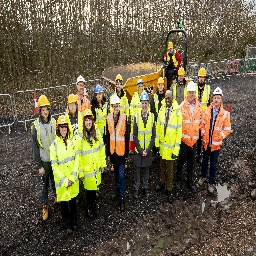helmet: (37, 95, 51, 109), (66, 91, 78, 106), (82, 106, 94, 120), (109, 93, 121, 106), (57, 116, 70, 128), (197, 65, 206, 80), (185, 82, 196, 94), (139, 91, 149, 103), (114, 73, 123, 85), (77, 75, 86, 87), (94, 84, 103, 96), (157, 76, 164, 88), (178, 67, 185, 79), (167, 42, 175, 50), (136, 78, 143, 86)
no-helmet: (165, 89, 174, 99)
person: (49, 112, 76, 222), (33, 92, 57, 215), (180, 81, 204, 194), (156, 90, 179, 205), (206, 86, 230, 191), (78, 110, 106, 198), (108, 96, 129, 210), (134, 90, 153, 199), (93, 83, 108, 144), (194, 67, 208, 110), (115, 72, 128, 116), (75, 73, 87, 114), (175, 66, 187, 103), (165, 40, 178, 74), (67, 92, 77, 127), (155, 78, 165, 108), (134, 79, 144, 105), (168, 42, 173, 51), (219, 140, 220, 143)
vest: (52, 134, 76, 198), (158, 100, 180, 161), (80, 132, 101, 188), (208, 100, 227, 161), (181, 97, 201, 154), (136, 110, 154, 161), (109, 111, 127, 161)
